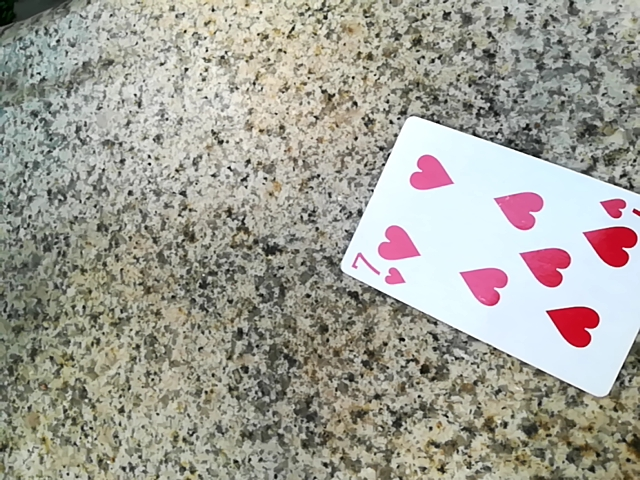hx 7: (334, 117, 639, 400)
